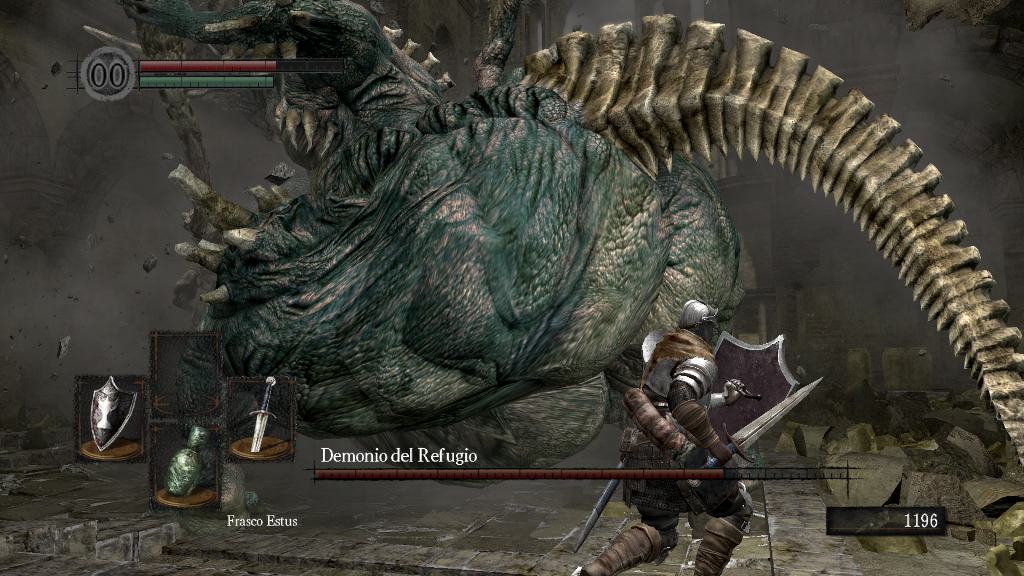asylumDemon: (81, 5, 1023, 575)
bossHP: (314, 469, 847, 479)
health: (138, 58, 343, 71)
humanity: (80, 45, 136, 102)
player: (570, 300, 824, 576)
souls: (825, 506, 945, 536)
stamina: (138, 74, 274, 88)
